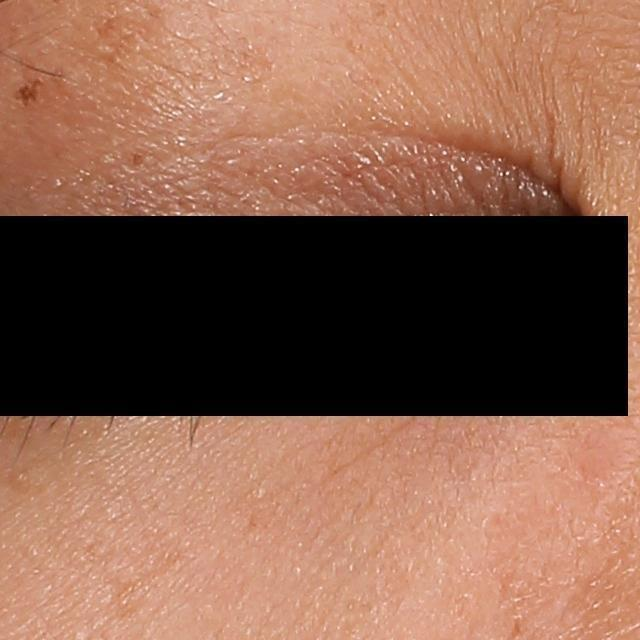nevus: (12, 75, 45, 112)
